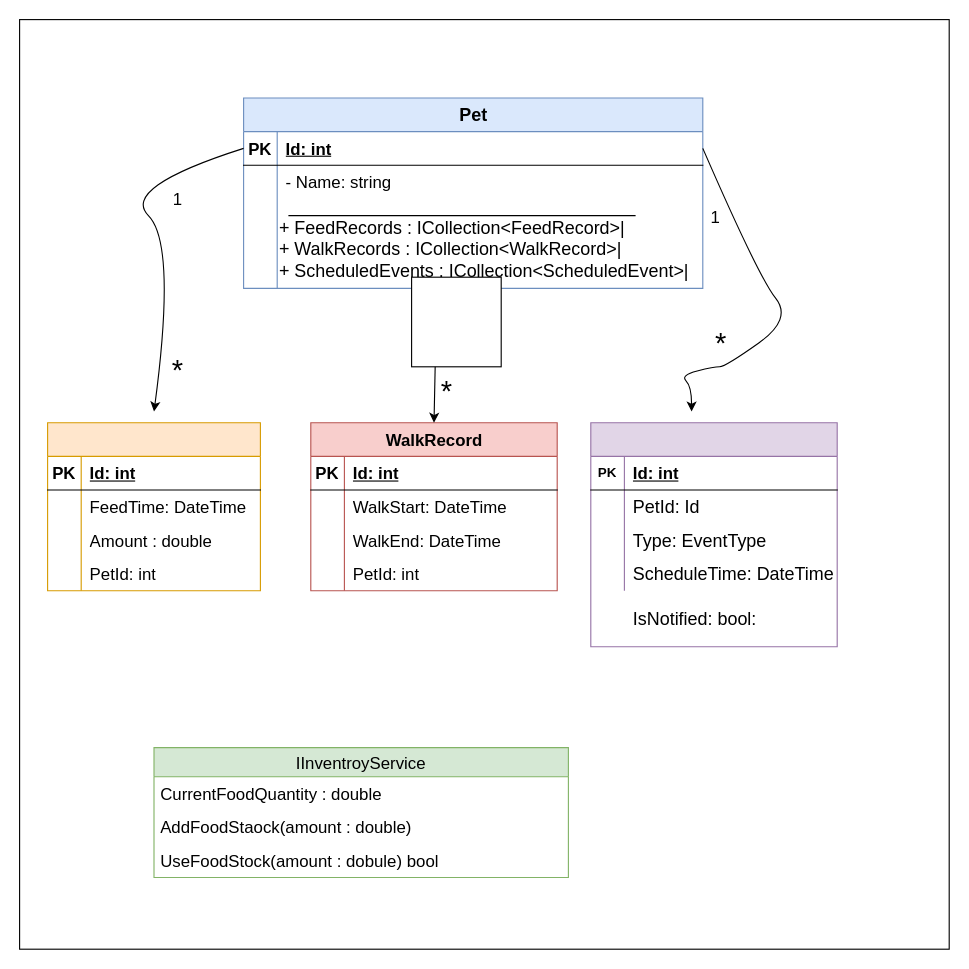
This 969x969 diagram has some shape labels left out. Here are the shapes that lost their labels. From the top down, the box of each, then its label:
(46, 422, 260, 591): FeedRecord
(590, 422, 837, 647): SchduledEvent
